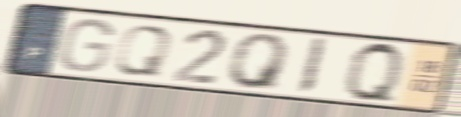2: (170, 27, 230, 87)
G: (55, 17, 117, 74)
I: (294, 35, 331, 98)
Q: (343, 39, 405, 108), (227, 32, 293, 92), (110, 23, 175, 79)
